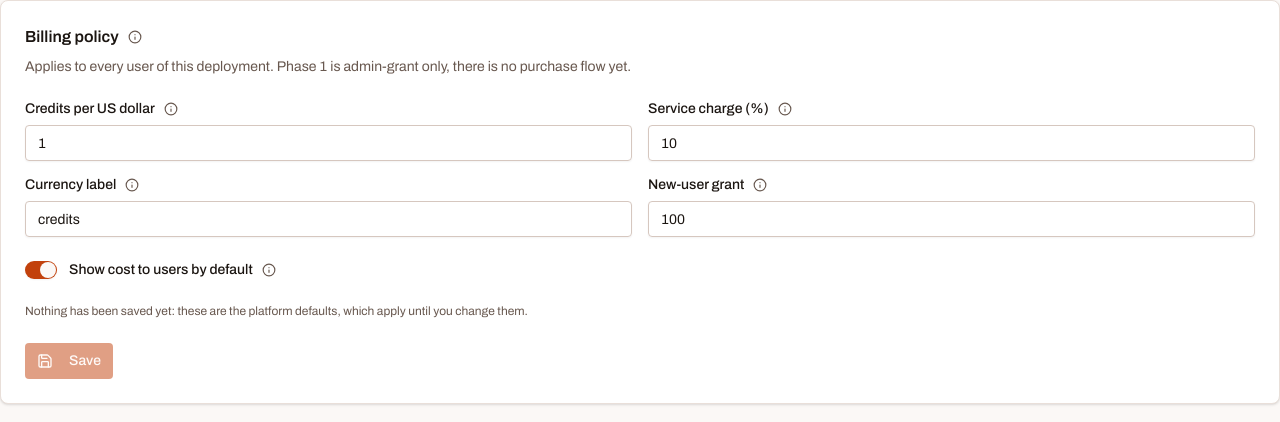
Scenario: BillingSettingsForm › Save button dirty tracking › becomes enabled after toggling the cost-visible switch
Click the switch named "show cost to users".
click(41, 270)  # box [25, 261, 57, 279]
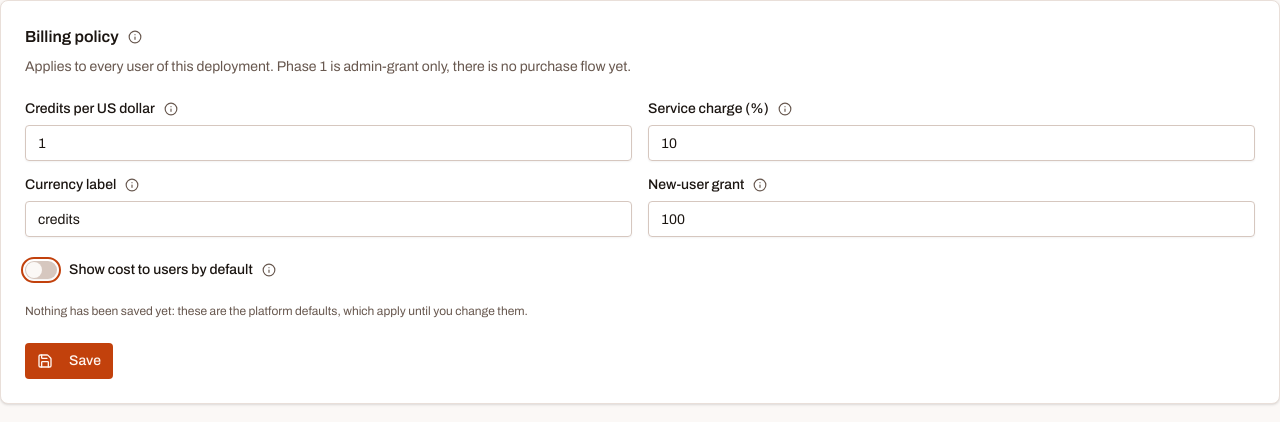
expect the button "Save" is enabled: met, box [25, 343, 113, 379]
